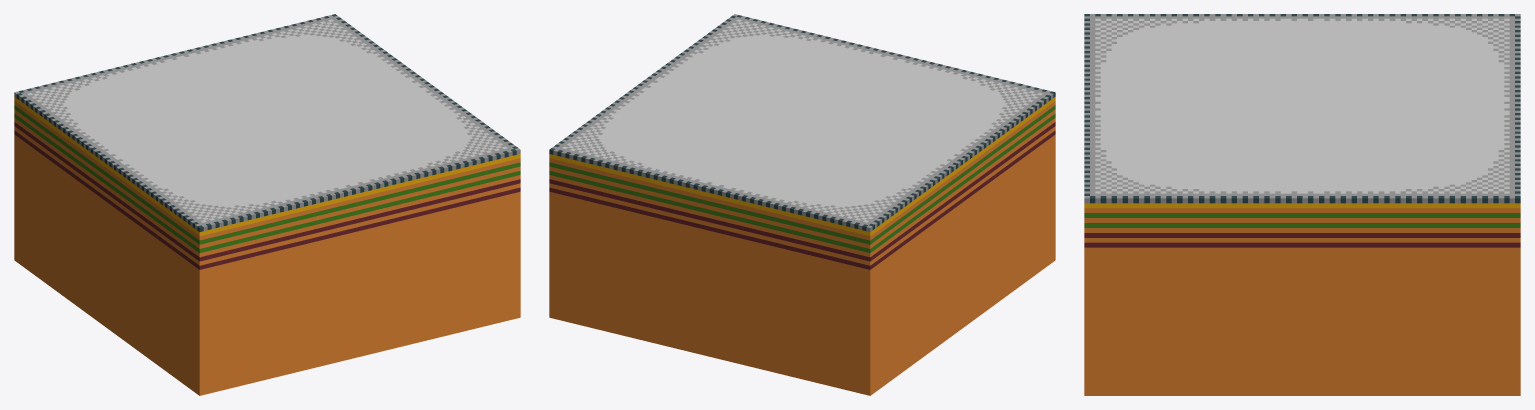
The model's file is snow_tile.obj.
3 renders of one model, left to right at view 1: azimuth 30°, elevation 25°; view 2: azimuth 150°, elevation 25°; view 3: azimuth 270°, elevation 25°, orthographic. The views are drawn at different scales.
Size of the model in its own units: 8 by 4 by 8.
Materials: 1 (1 with a texture image).
